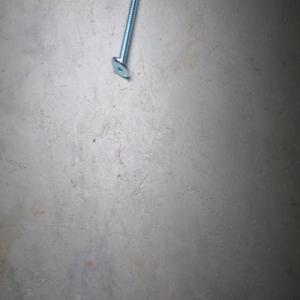Bolt: (110, 0, 140, 79)
